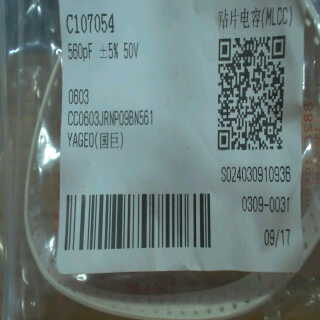560pF: (64, 37, 95, 68)
